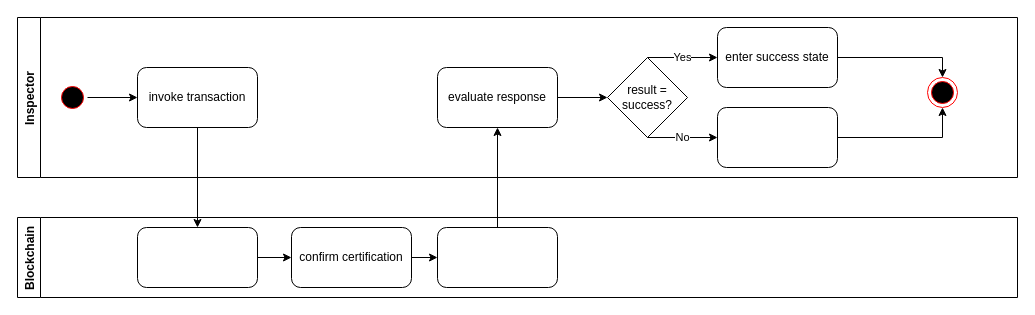
The diagram is 1035 pixels wide and 315 high, and some of its shapes have lost their labels. Each missing label, with the centre of its shape:
create response: (497,257)
enter error state: (777,137)
process transaction: (197,257)
